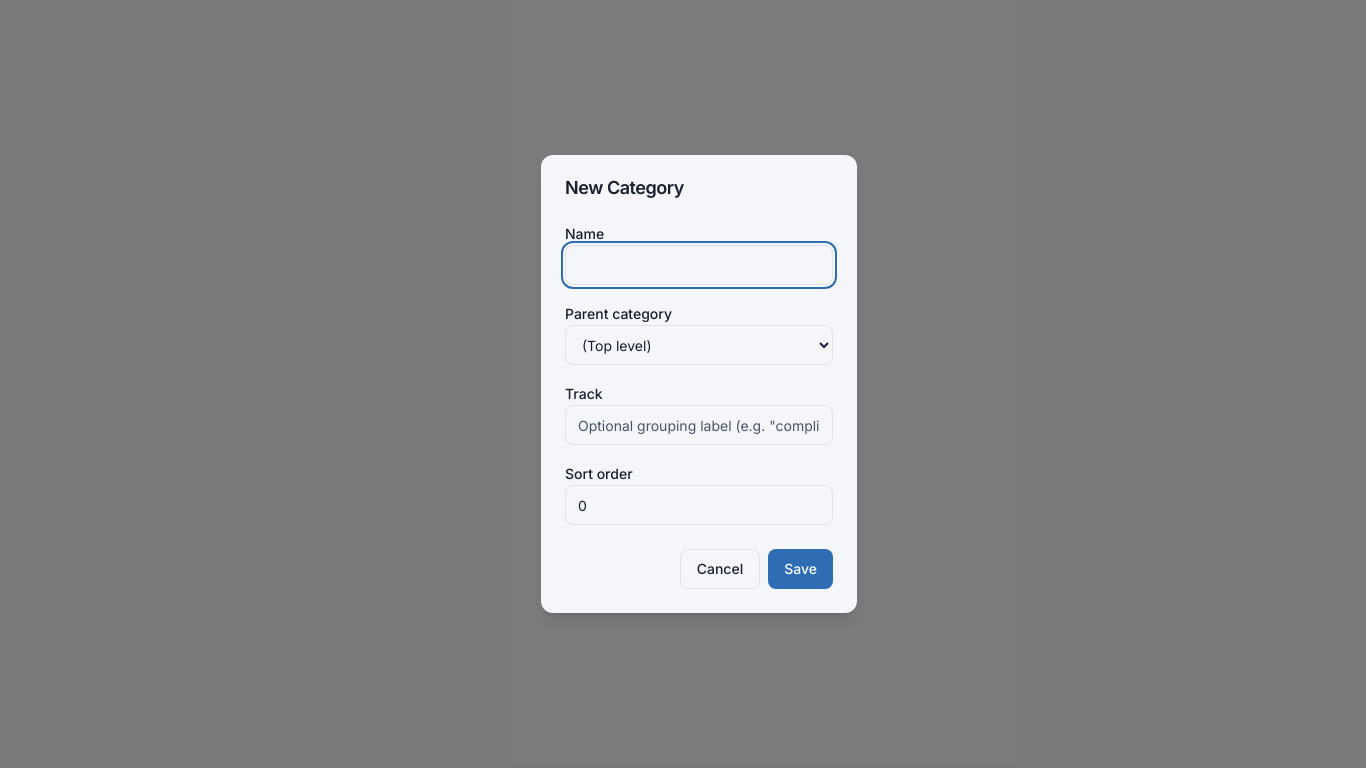
it: CategoryEditModal - create mode › shows the API message in the form for any other error code
Type "Crash" into the field labelled "Name" at (699,265), box [565,245,833,285]
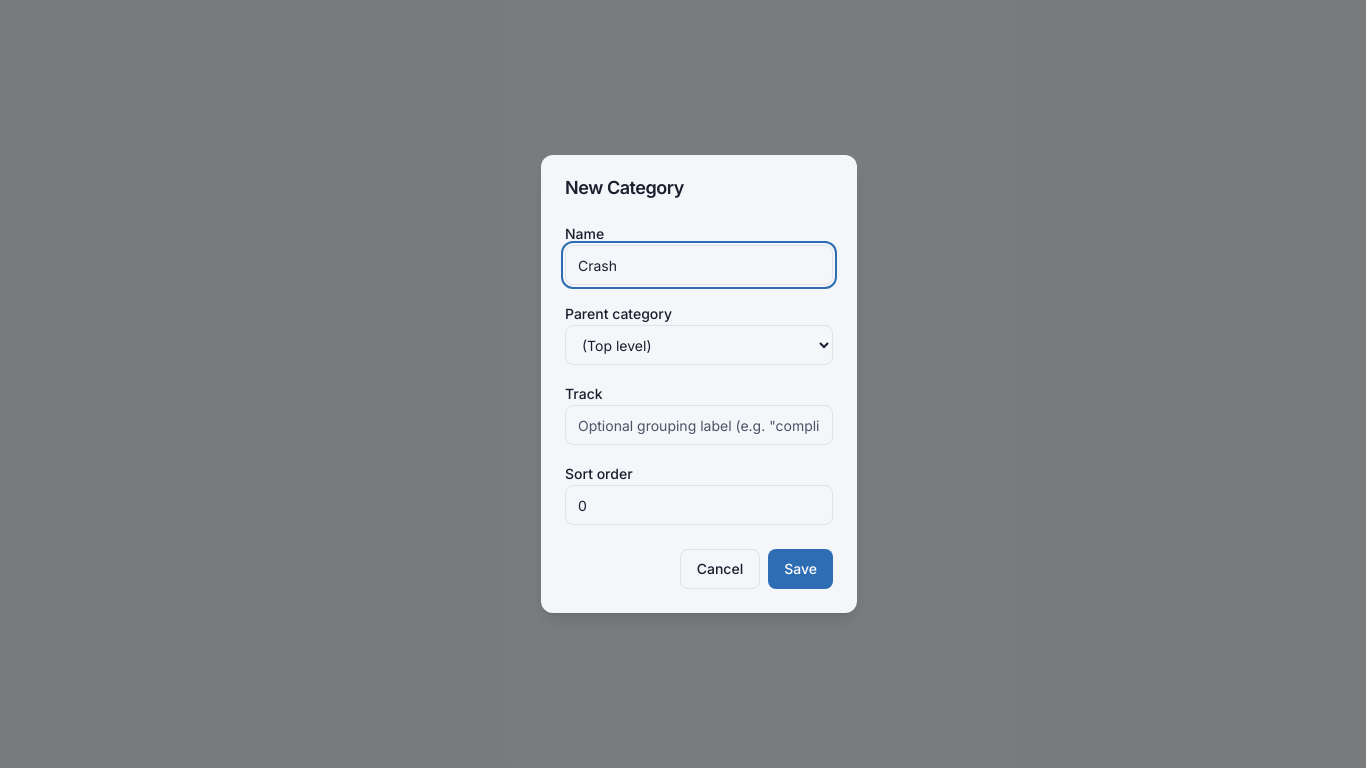
Click the button "Save" at (801,569), box [768,549,833,589]
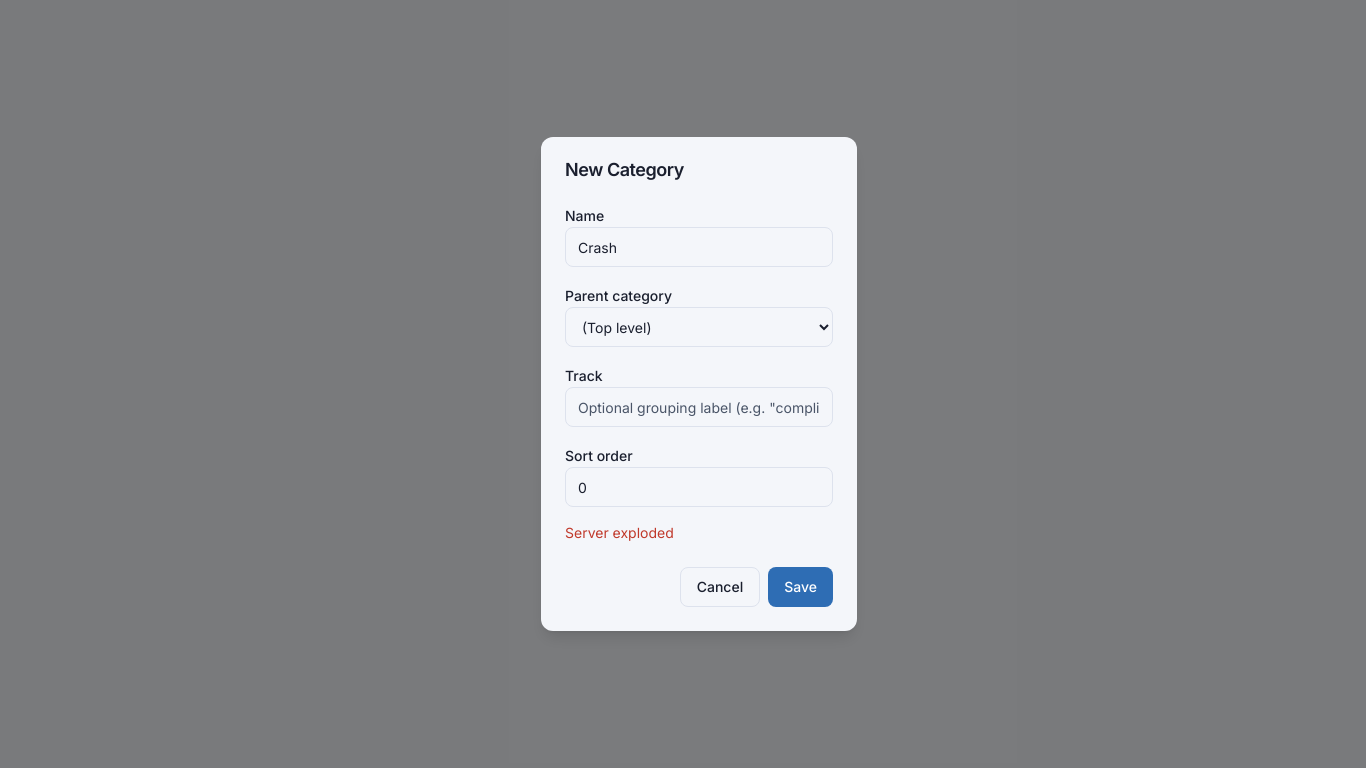
Expected: the text "Server exploded" is shown, [565,524,674,541]
